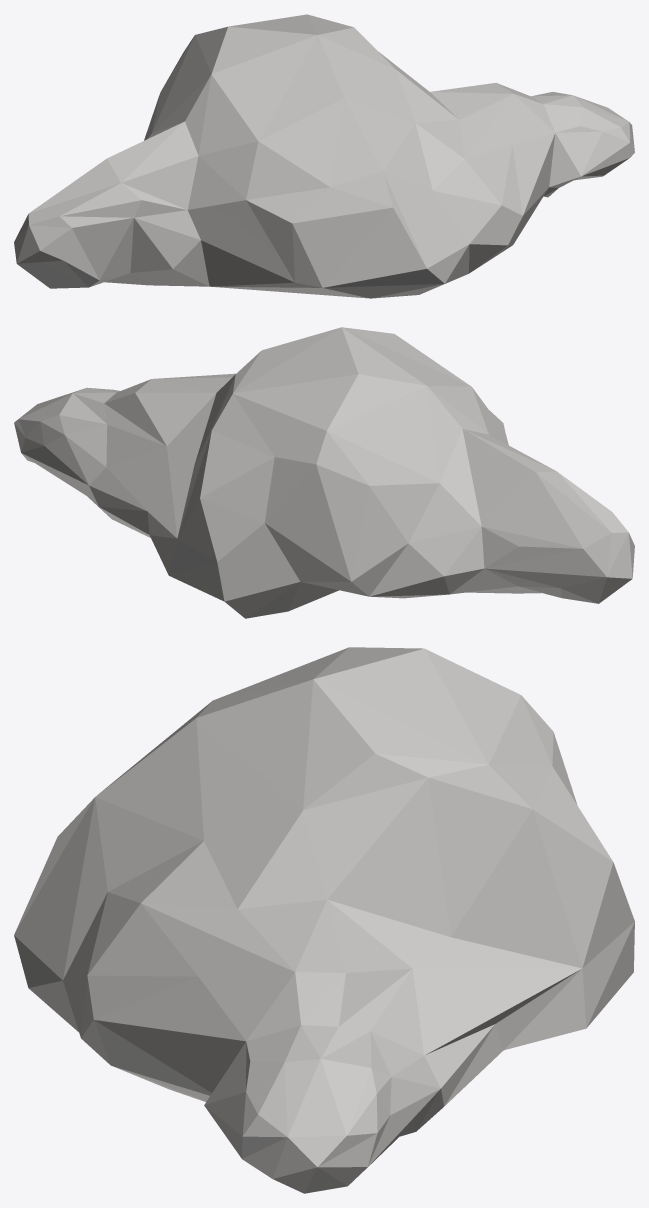
File: SM_Env_Cloud_06.gltf
3 views of the same model, one above another, from view 1: azimuth 30°, elevation 25°; view 2: azimuth 150°, elevation 25°; view 3: azimuth 270°, elevation 25° (orthographic). The views are drawn at different scales.
Visible parts, largest first — view 1: SM_Env_Cloud_06; view 2: SM_Env_Cloud_06; view 3: SM_Env_Cloud_06.
Boxes of the visible parts, left/top/right/bottom form: SM_Env_Cloud_06: left=14, top=14, right=634, bottom=298; SM_Env_Cloud_06: left=14, top=327, right=634, bottom=618; SM_Env_Cloud_06: left=14, top=647, right=634, bottom=1193.
Bounding box in the file's own units: 5.5 × 1.94 × 3.22.
1 material, 1 textured.
